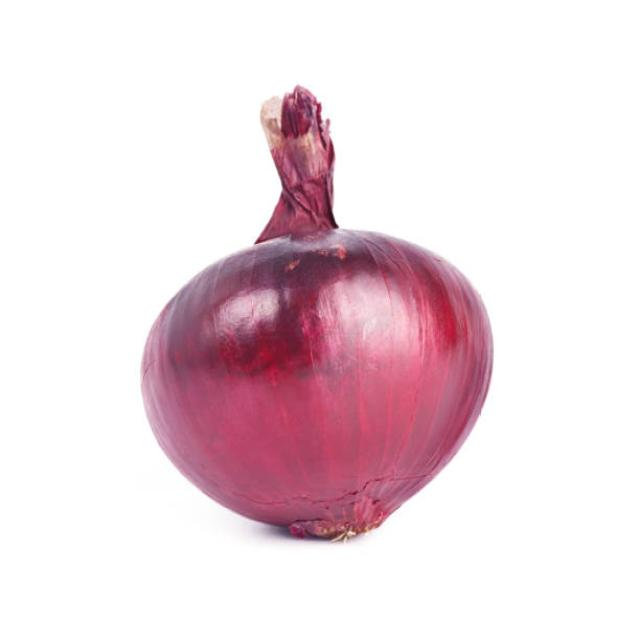onion: (137, 225, 499, 533)
